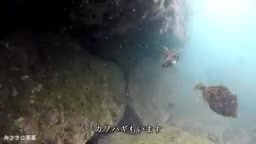kawahagi: (191, 80, 243, 121)
